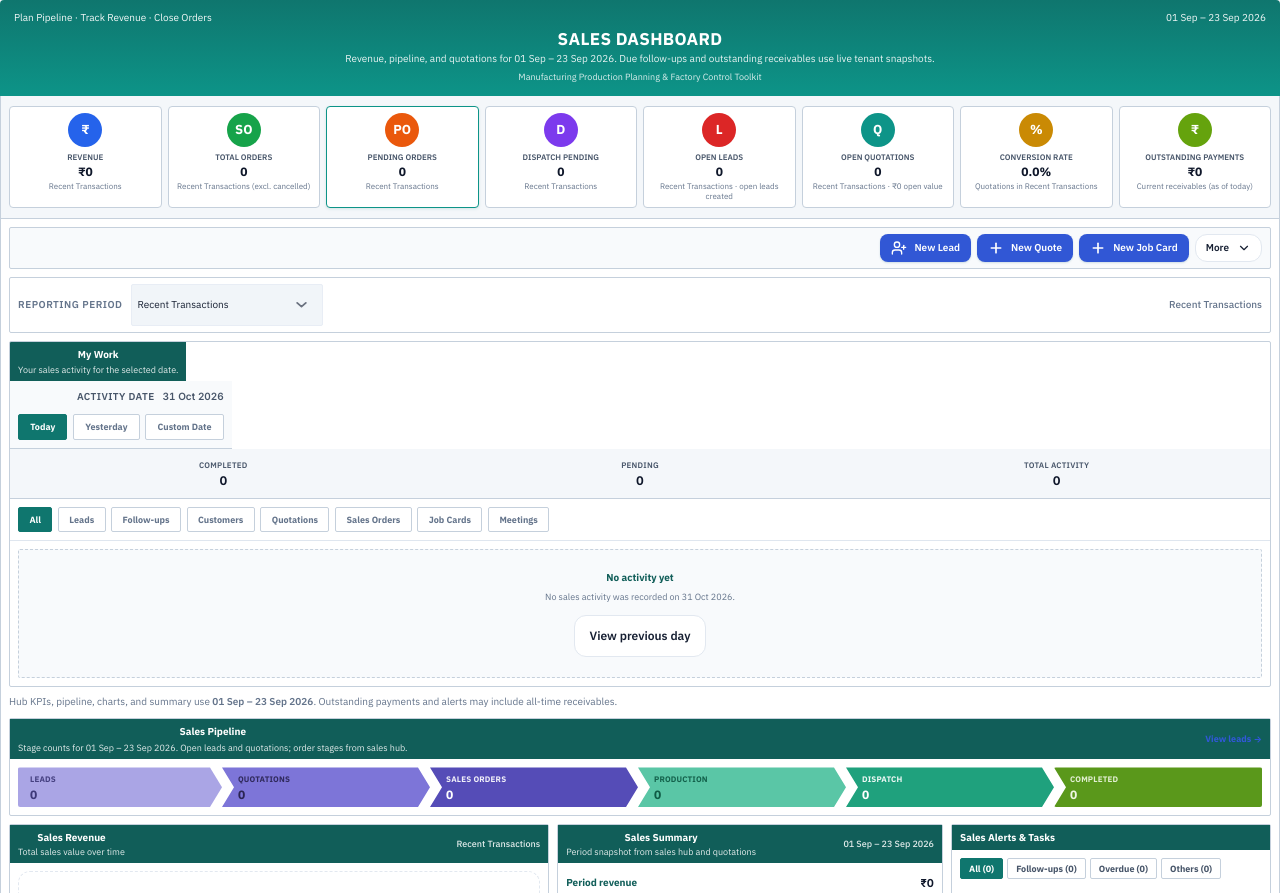
Scenario: SalesDashboard smoke › opens reporting custom date modal from header Custom Date
expect the heading "My Work" is shown: met, box top-left (78, 348), bottom-right (119, 361)
Select "Custom Date" in the dropdown named "Recent Transactions period" at (226, 305), box top-left (130, 284), bottom-right (322, 326)
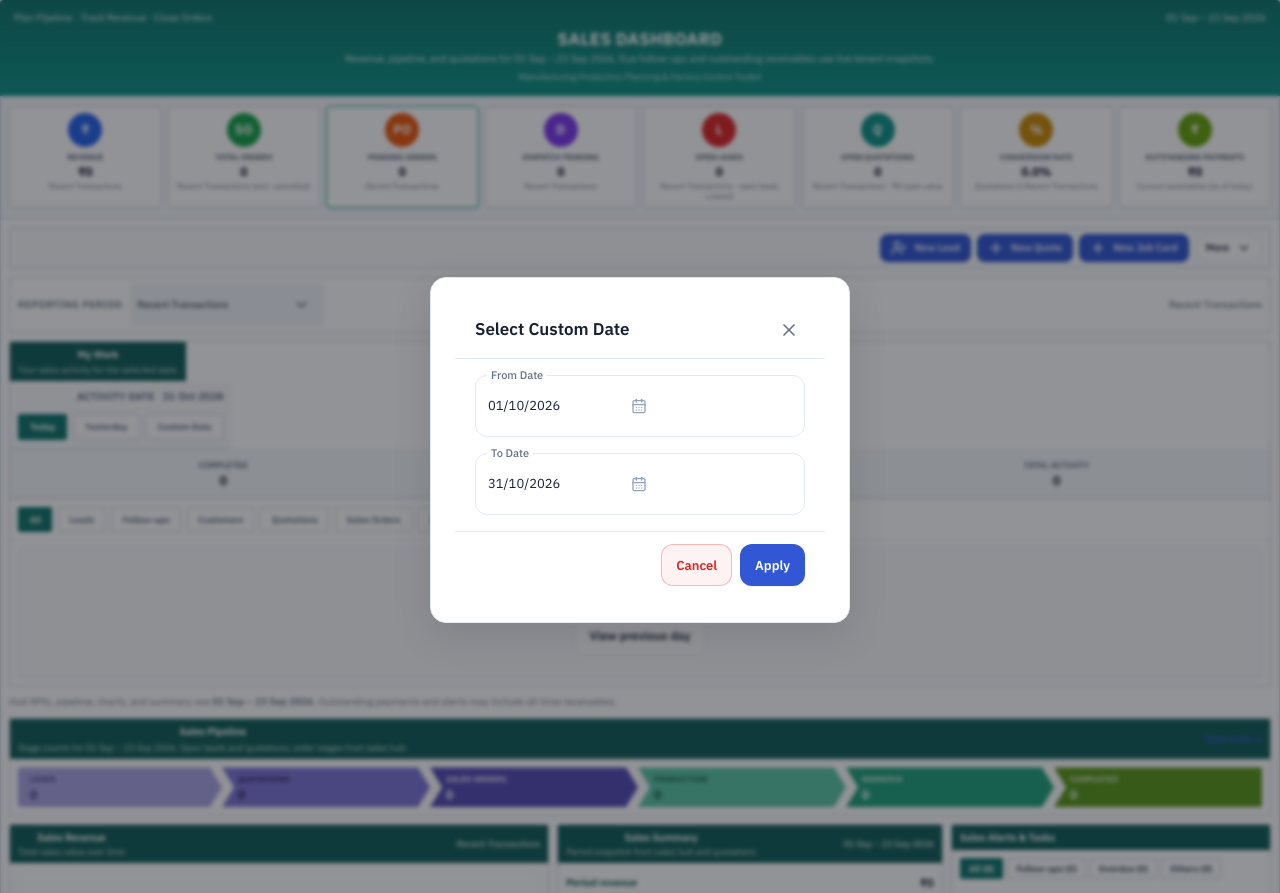
expect the dialog with test id "custom-reporting-date-modal" is shown: met, box top-left (430, 277), bottom-right (850, 623)
expect the heading "Select Custom Date" is shown: met, box top-left (475, 317), bottom-right (630, 343)
